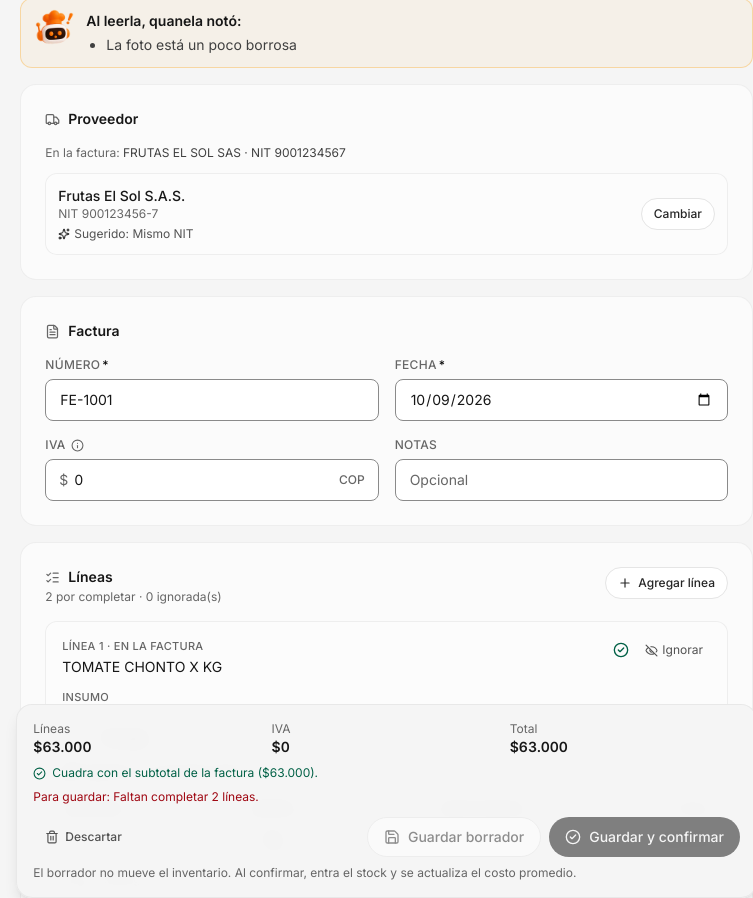
Scenario: Revisión de la factura (ADR 0049) › what could not be read is added by hand, and an added line can be removed
Click the button "Agregar línea": {"x": 667, "y": 583} [605,567,728,599]
(page scrolled)
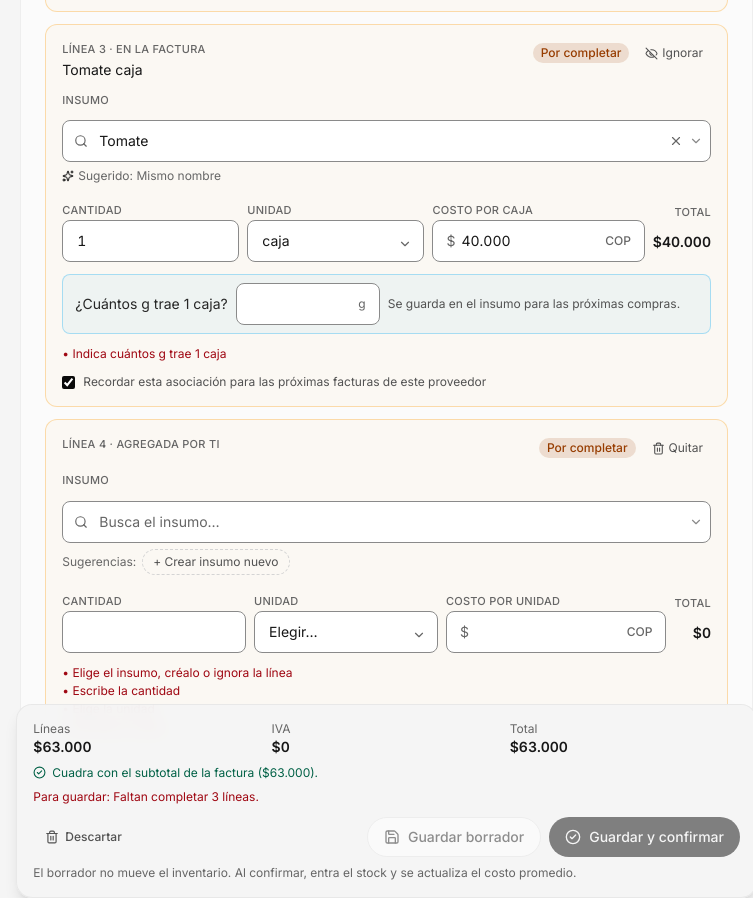
Expected: the text "Línea 4 · agregada por ti" is shown, [62,436,220,452]
Expected: the text "Para guardar: Faltan completar 3 líneas." is shown, [33,789,259,804]
Click the button "Quitar": {"x": 677, "y": 448} [644,436,711,460]
(page scrolled)
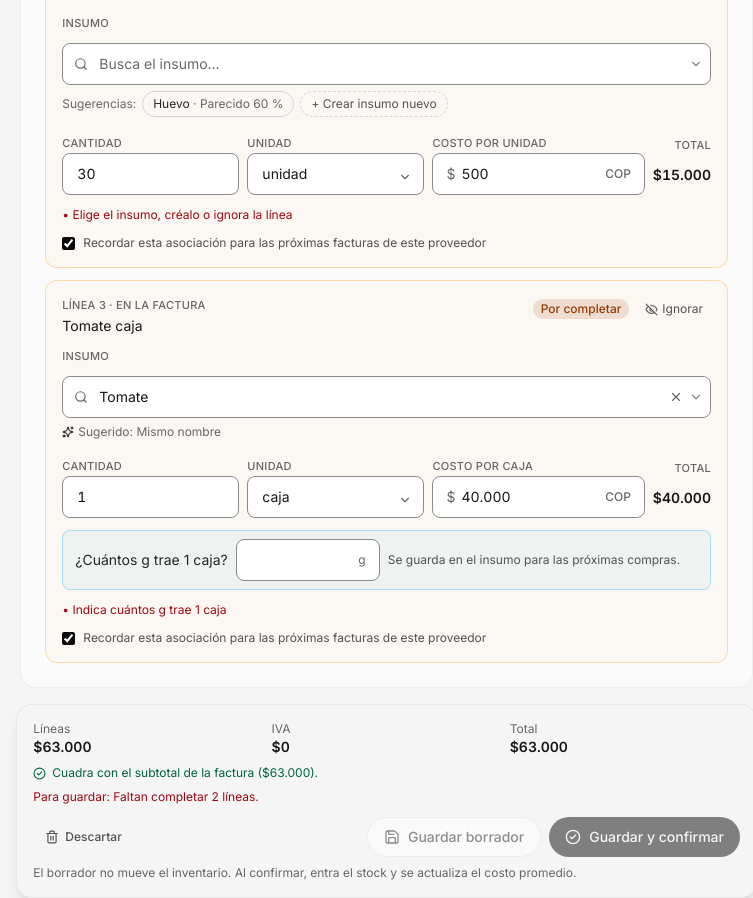
Expected: the text "Línea 4 · agregada por ti" is gone
